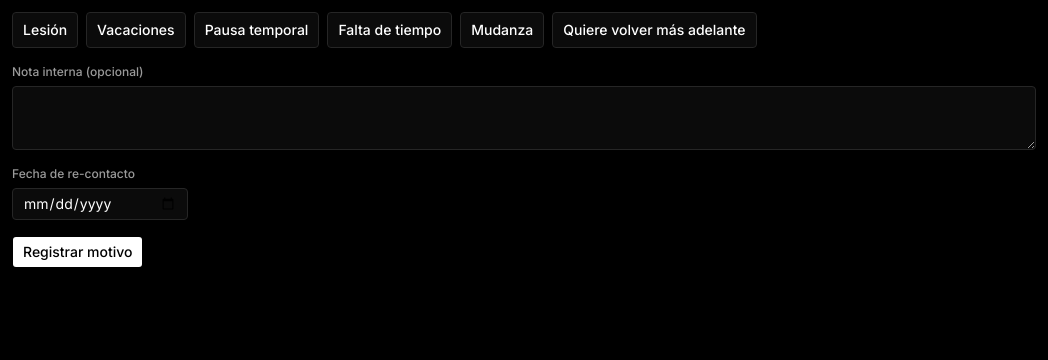
it: InactivityReasonForm › places API field errors in their fields with Spanish copy, never the English API text
Step 1. Click the button "Lesión" → x=45, y=30, box 12,12 -> 78,48
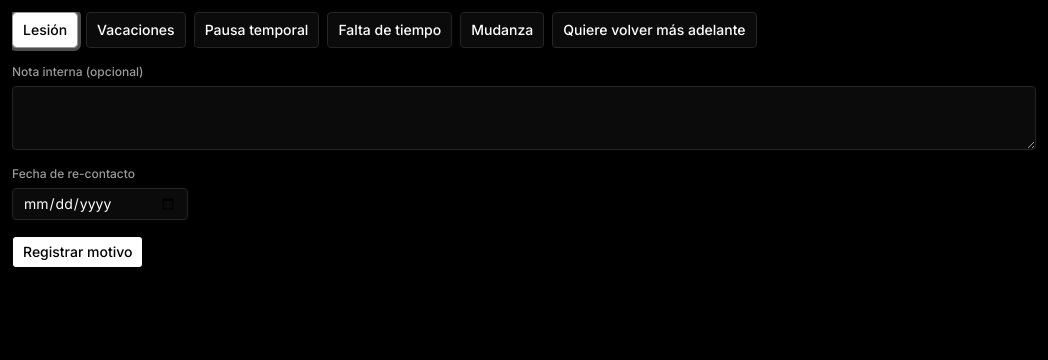
Step 2. Click the button "Registrar motivo" → x=78, y=252, box 12,236 -> 144,268
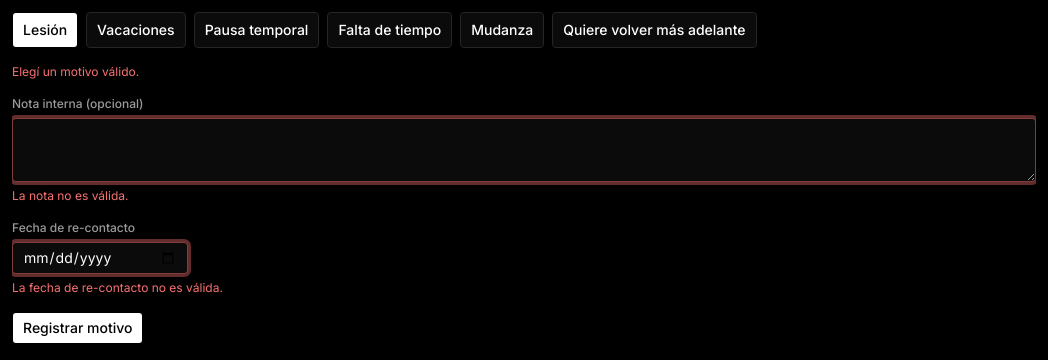
Now the text "Elegí un motivo válido." is shown, box 12,64 -> 139,79
Now the text "La nota no es válida." is shown, box 12,188 -> 128,203
Now the text "La fecha de re-contacto no es válida." is shown, box 12,280 -> 223,295
